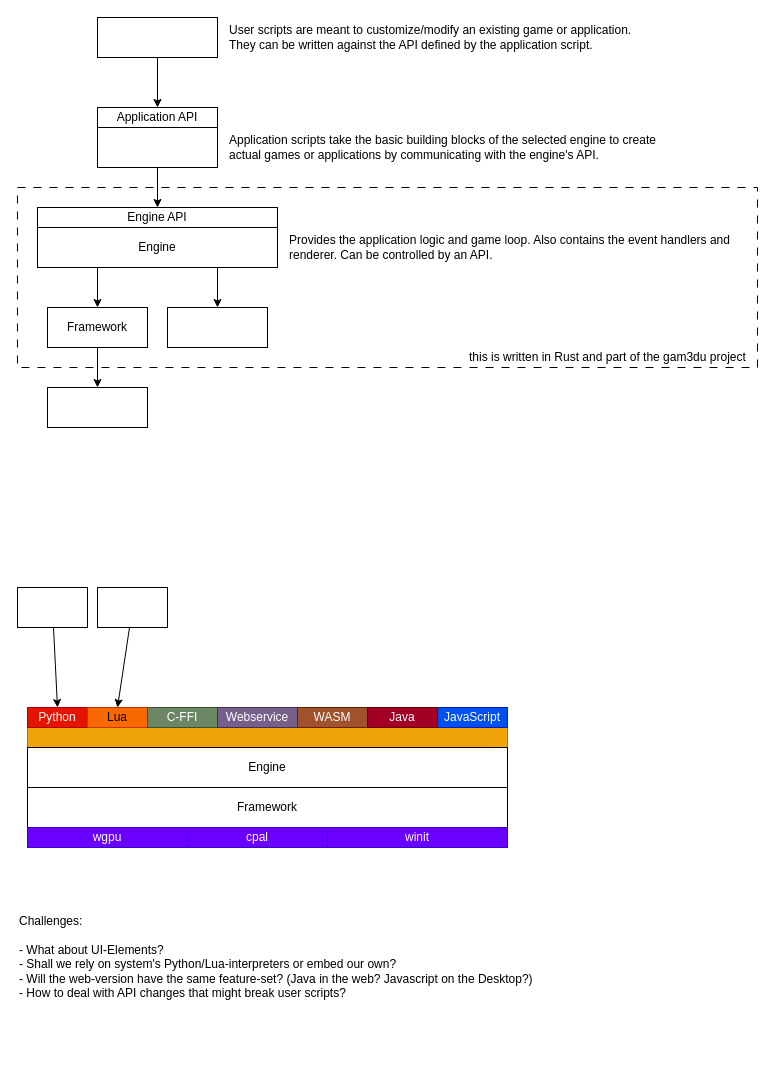
This 775x1075 diagram has some shape labels left out. Each missing label, with the centre of its shape:
"API" belongs at [267,737].
"Application Script" belongs at [157,147].
"Libs/Utils" belongs at [217,327].
"Lua Script" belongs at [132,607].
"Platform" belongs at [97,407].
"Python Script" belongs at [52,607].
"User Script" belongs at [157,37].
